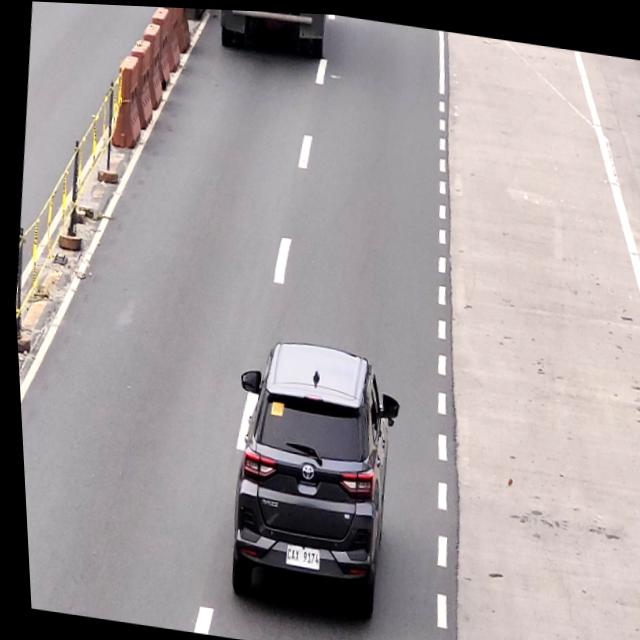Car: (216, 335, 398, 611)
License-Plate: (277, 538, 315, 569)
